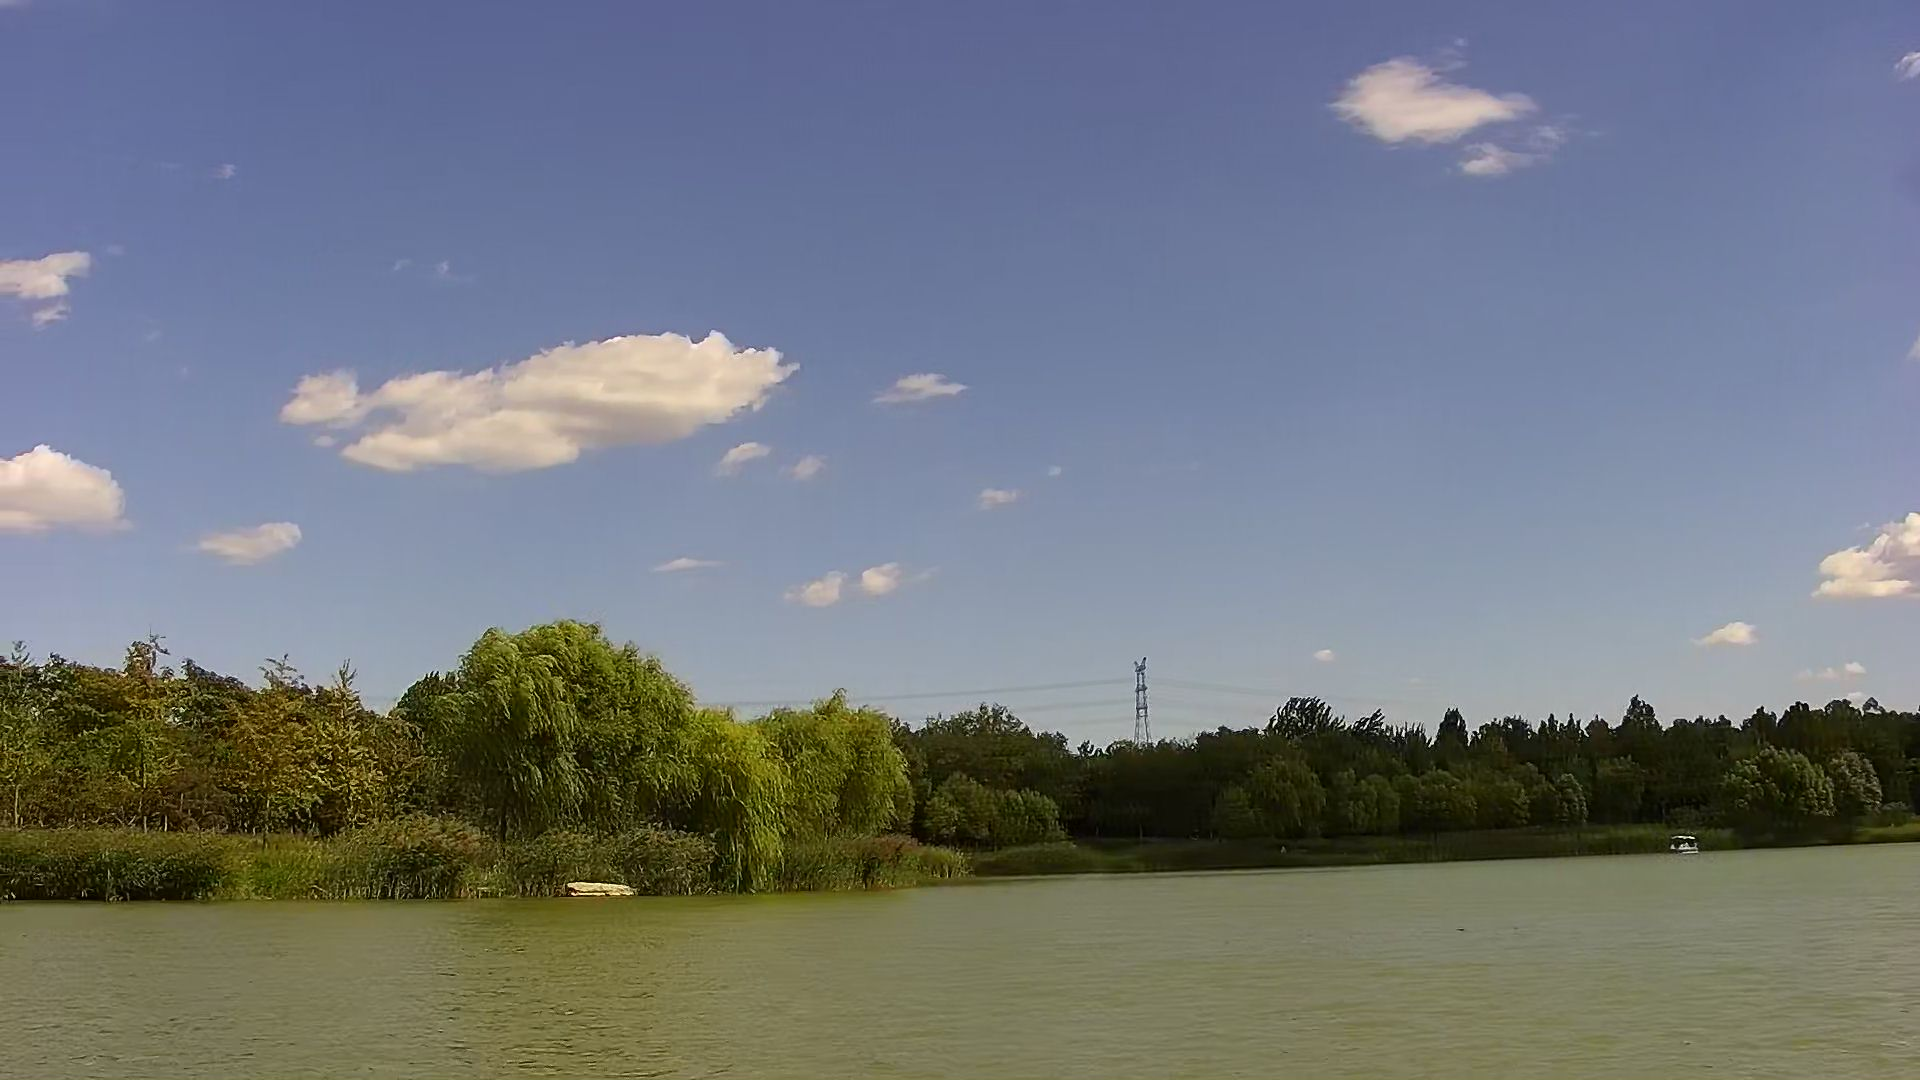boat: (1665, 832, 1702, 856)
